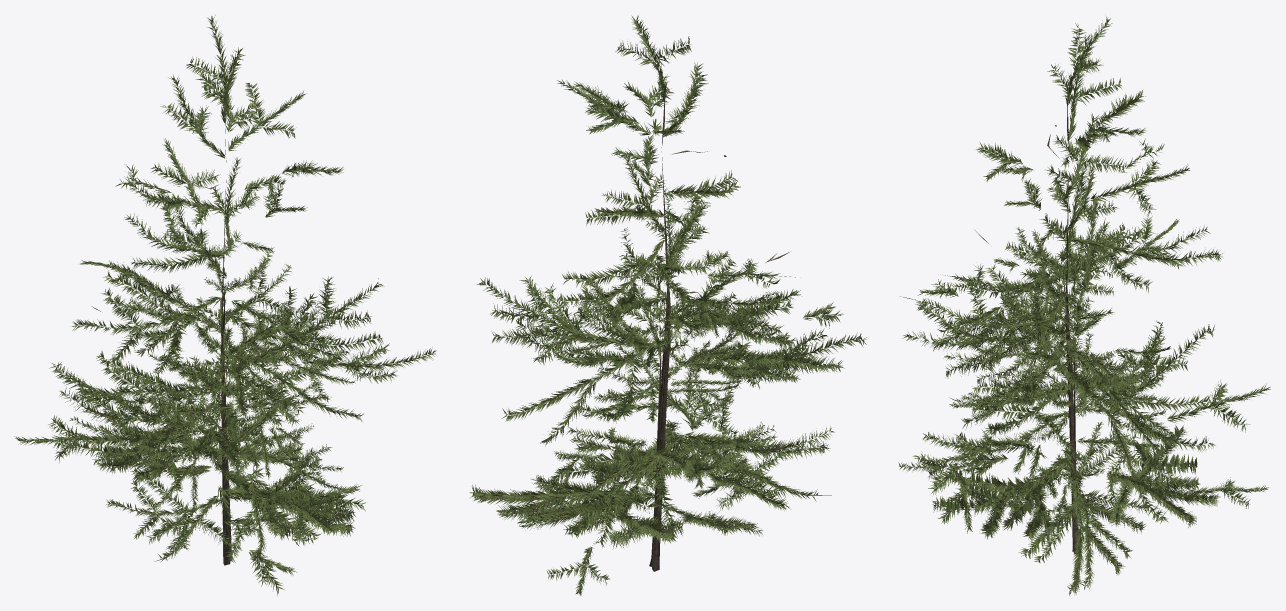
The model's file is fir-saplings-lod.glb.
The picture shows the model from 3 angles, left to right: view 1: azimuth 30°, elevation 25°; view 2: azimuth 150°, elevation 25°; view 3: azimuth 270°, elevation 25°; orthographic projection. The views are drawn at different scales.
Visible parts, largest first — view 1: fir_sapling_a, fir_sapling_b, fir_sapling_c; view 2: fir_sapling_a, fir_sapling_b, fir_sapling_c; view 3: fir_sapling_a, fir_sapling_b, fir_sapling_c.
Part boxes in pixels (<box>): fir_sapling_a: <box>14,15,436,596</box>; fir_sapling_b: <box>49,157,365,567</box>; fir_sapling_c: <box>69,266,353,561</box>; fir_sapling_a: <box>474,15,867,571</box>; fir_sapling_b: <box>469,134,811,595</box>; fir_sapling_c: <box>470,248,777,566</box>; fir_sapling_a: <box>900,16,1222,595</box>; fir_sapling_b: <box>898,159,1270,595</box>; fir_sapling_c: <box>932,239,1220,589</box>.
Size of the model in its own units: 0.8617 by 1.3 by 0.818.
Materials: 2 (2 with a texture image).
